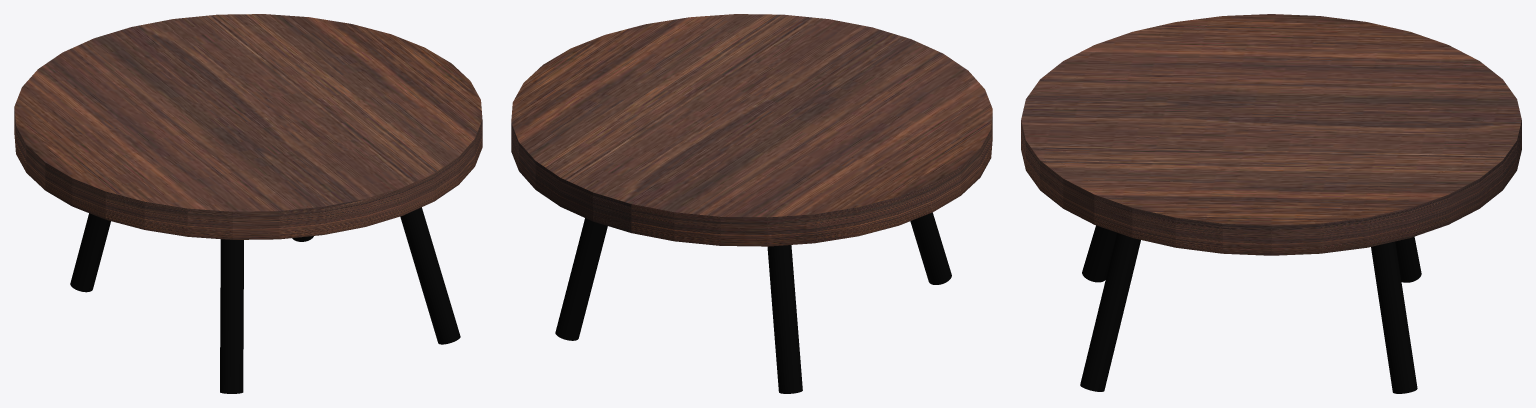
Rendered from mesa.fbx.
The picture shows the model from 3 angles, left to right: view 1: azimuth 30°, elevation 25°; view 2: azimuth 150°, elevation 25°; view 3: azimuth 270°, elevation 25°; orthographic projection. The views are drawn at different scales.
Parts seen in each view (by area): view 1: Cylinder, Cylinder.001, Cylinder.002, Cylinder.004; view 2: Cylinder, Cylinder.004, Cylinder.003, Cylinder.001; view 3: Cylinder, Cylinder.002, Cylinder.003, Cylinder.001, Cylinder.004.
Part boxes in pixels (x1,y1,x2,y2): Cylinder: [14, 14, 482, 239]; Cylinder.001: [220, 239, 243, 393]; Cylinder.002: [400, 207, 460, 344]; Cylinder.004: [70, 213, 110, 292]; Cylinder: [511, 14, 992, 246]; Cylinder.004: [767, 245, 802, 393]; Cylinder.003: [555, 218, 607, 340]; Cylinder.001: [910, 212, 951, 284]; Cylinder: [1021, 14, 1521, 255]; Cylinder.002: [1080, 232, 1140, 391]; Cylinder.003: [1371, 241, 1417, 393]; Cylinder.001: [1082, 225, 1116, 282]; Cylinder.004: [1395, 236, 1421, 282].
Bounding box in the file's own units: 400 × 187 × 400.
Materials: 2 (2 with a texture image).
